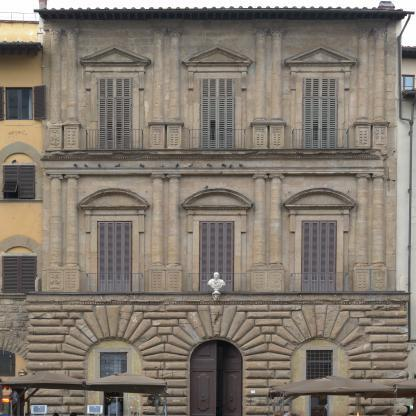Balcony: (290, 129, 352, 150), (84, 129, 146, 150), (187, 129, 248, 150), (289, 273, 352, 293), (83, 273, 145, 293), (186, 273, 248, 293)
Building Outline: (23, 1, 412, 416)
Cornice: (180, 43, 254, 68), (283, 43, 358, 67), (79, 44, 152, 68), (180, 188, 255, 211), (77, 188, 151, 211), (283, 188, 357, 210)
Deco: (207, 272, 226, 302)
Door: (190, 339, 243, 415), (97, 221, 134, 291), (97, 78, 134, 148), (199, 78, 236, 148), (302, 78, 339, 148), (301, 221, 338, 291), (198, 221, 235, 291)
Facade: (34, 1, 412, 415)
Floor: (42, 157, 398, 301)
Floor Slab: (27, 293, 408, 301), (42, 149, 398, 157)
Ground Floor: (27, 301, 408, 416)
Molding: (23, 293, 412, 305), (43, 20, 388, 29), (40, 154, 381, 161)
Pillar: (61, 28, 82, 150), (146, 27, 166, 149), (45, 28, 64, 150), (268, 27, 287, 149), (250, 27, 269, 149), (371, 27, 390, 148), (353, 27, 372, 148), (166, 27, 184, 149), (47, 173, 65, 292), (63, 173, 81, 292), (251, 173, 269, 292), (165, 173, 183, 292), (149, 173, 167, 292), (354, 173, 372, 291), (268, 173, 285, 292), (370, 173, 387, 291)
Shop: (104, 391, 124, 416), (311, 394, 327, 416)
Top Floor: (42, 19, 398, 157)
Window: (295, 339, 348, 415), (87, 339, 140, 415), (306, 350, 333, 383), (101, 352, 127, 383)
